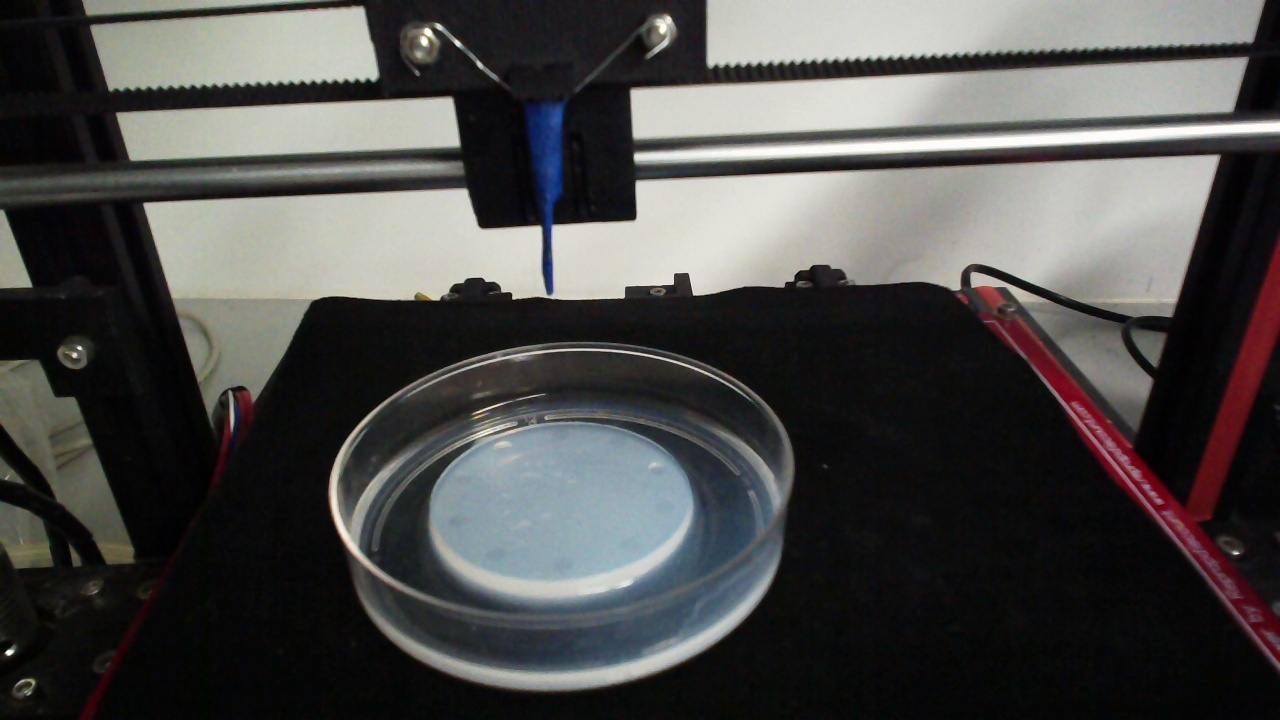groove: (550, 557, 577, 575), (481, 545, 506, 563), (617, 537, 642, 554), (448, 511, 471, 528), (653, 500, 675, 517), (451, 470, 472, 487), (647, 462, 668, 476), (490, 440, 511, 454), (551, 428, 570, 443), (605, 437, 626, 450)
needle: (529, 100, 565, 296)
